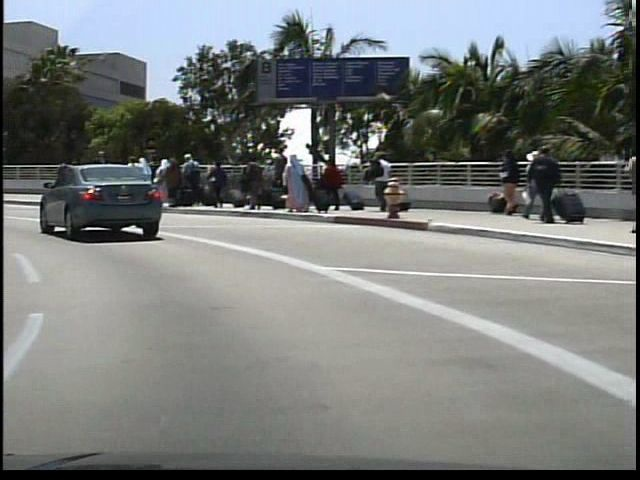person: (525, 143, 557, 225), (615, 142, 640, 234), (366, 149, 393, 212), (60, 152, 88, 211), (88, 149, 115, 207), (59, 157, 79, 198), (123, 153, 138, 167)
